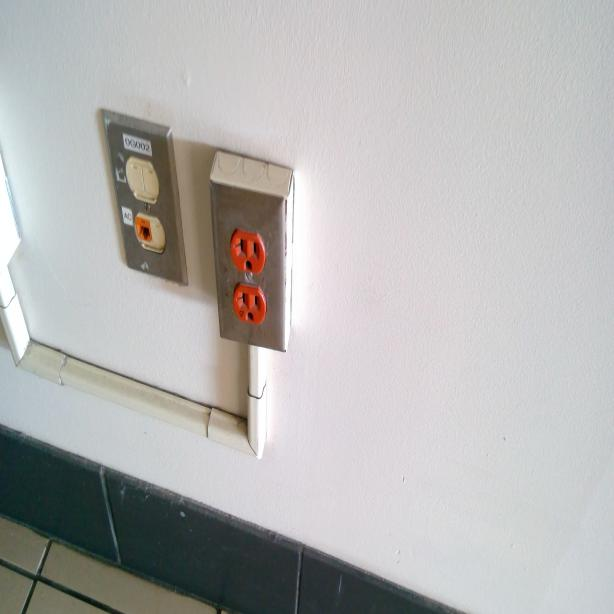typeb: (232, 226, 264, 272), (236, 284, 266, 326)
